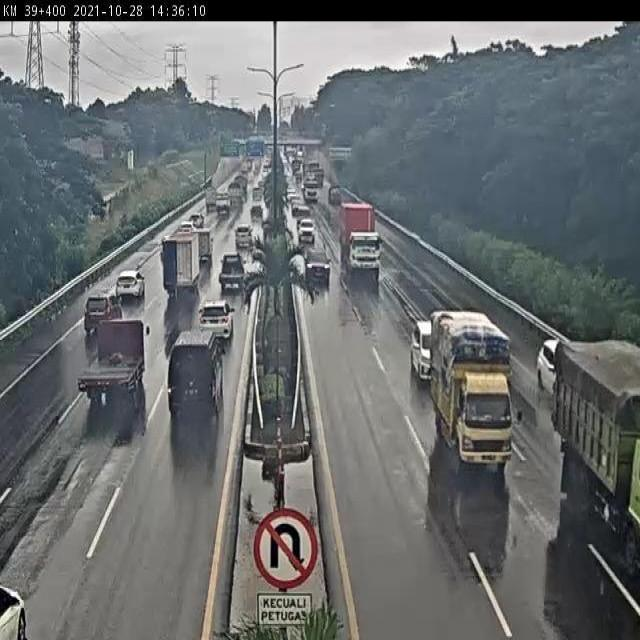big truck: (565, 347, 640, 581), (340, 203, 388, 280), (162, 226, 209, 298)
car: (171, 326, 230, 426), (0, 573, 39, 640), (408, 316, 437, 388), (542, 336, 566, 401), (116, 260, 145, 313), (88, 286, 117, 334), (203, 299, 234, 340), (308, 248, 334, 285), (222, 249, 241, 296), (299, 216, 314, 247), (239, 222, 253, 250)
small truck: (435, 317, 526, 472), (89, 318, 151, 402)
